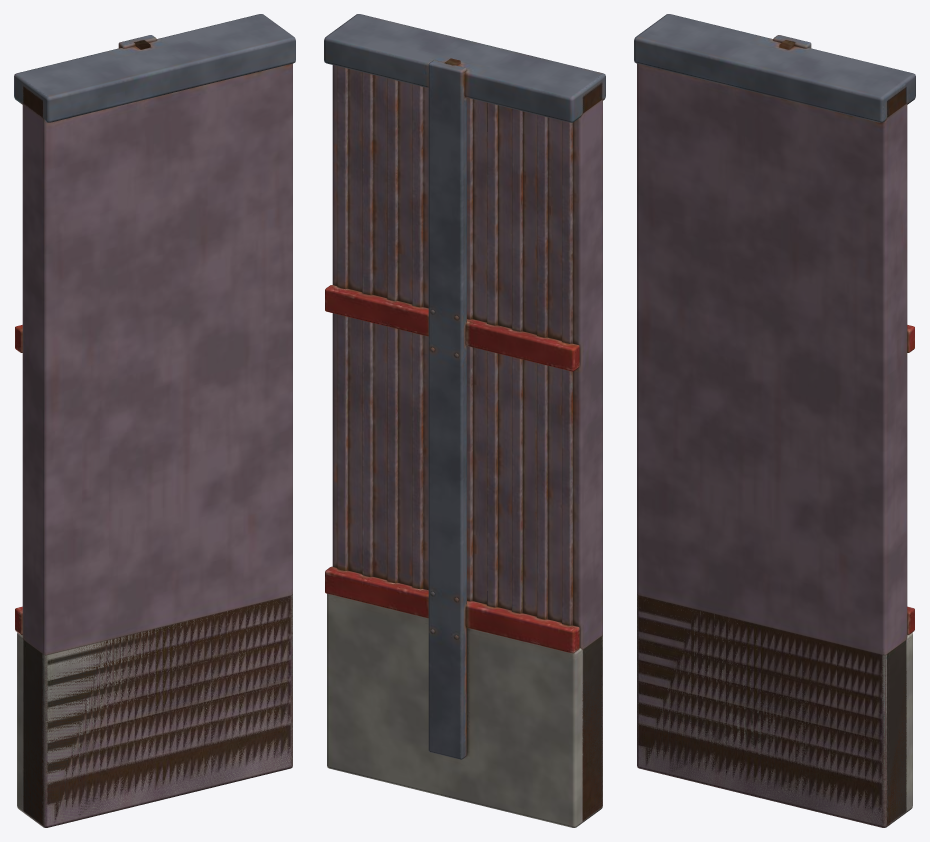
The model's file is arena_backwall.glb.
3 views of the same model, side by side, from view 1: azimuth 30°, elevation 25°; view 2: azimuth 150°, elevation 25°; view 3: azimuth 330°, elevation 25° (orthographic).
Visible parts, largest first — view 1: seg; view 2: seg; view 3: seg.
Part boxes in pixels (x1,y1,x2,y2): seg: (14,14,295,827); seg: (324,14,605,827); seg: (634,14,915,827).
Size of the model in its own units: 2.5 by 7.05 by 0.6638.
Materials: 1 (1 with a texture image).
